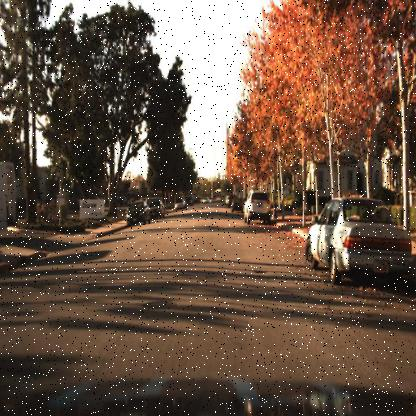car: (305, 196, 412, 288), (240, 189, 274, 229), (124, 197, 152, 230), (148, 196, 170, 220), (228, 194, 246, 217), (173, 195, 187, 215)
